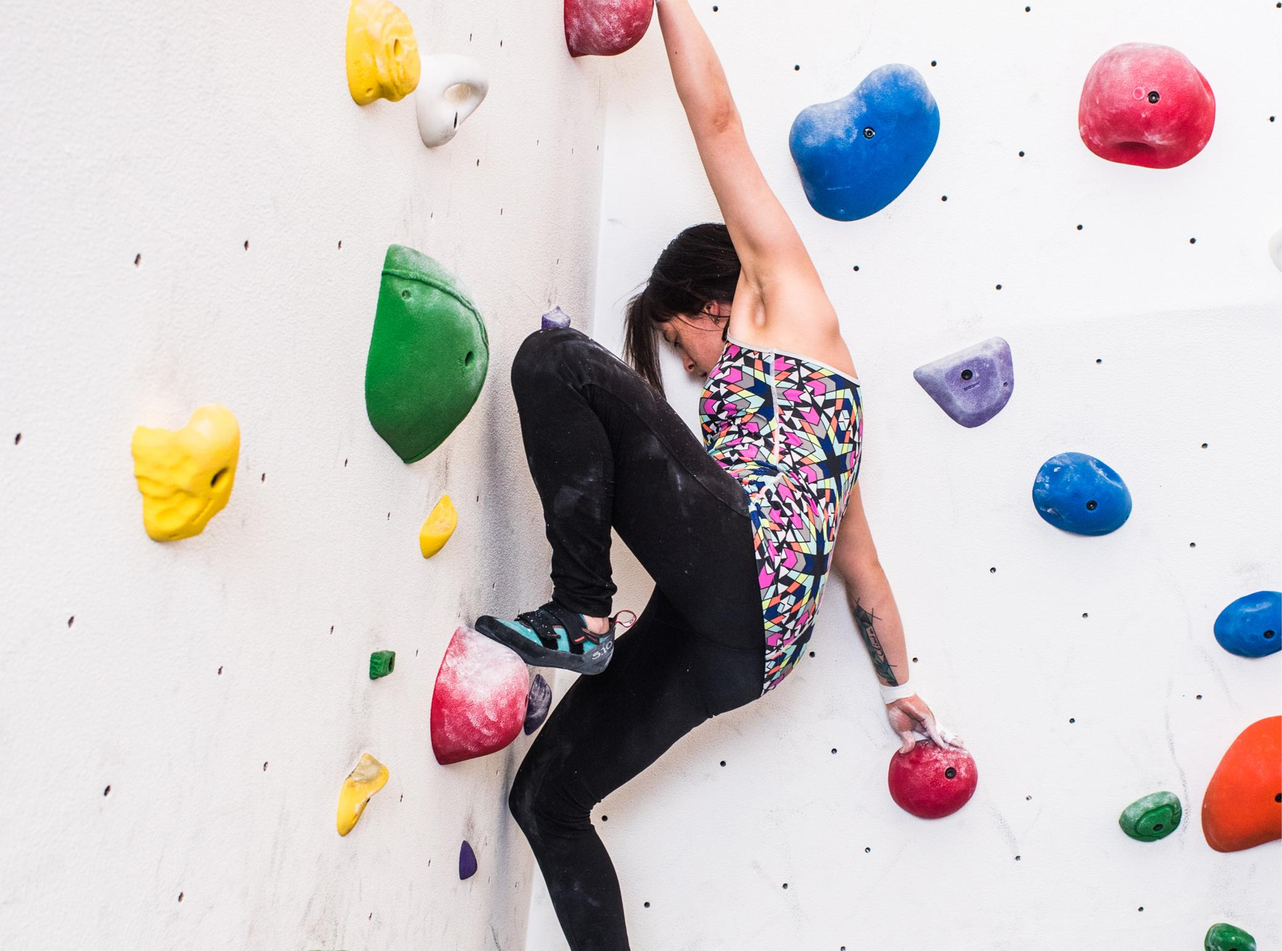black-hold: (768, 51, 970, 239), (353, 241, 504, 475), (414, 621, 544, 784), (1073, 35, 1223, 175), (124, 399, 256, 545), (911, 325, 1036, 442), (1019, 439, 1146, 554), (1202, 715, 1282, 853), (341, 0, 422, 106), (416, 55, 488, 150), (317, 751, 394, 839), (889, 741, 977, 818), (563, 0, 655, 58), (1113, 784, 1191, 852), (1213, 591, 1282, 658), (409, 492, 467, 563), (518, 672, 558, 740), (1204, 922, 1257, 951), (539, 304, 572, 330), (368, 651, 396, 681), (458, 841, 478, 881), (1269, 228, 1282, 271)
